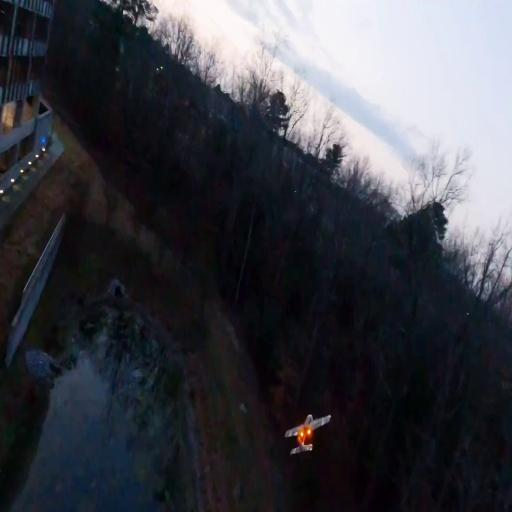uav: (282, 410, 334, 460)
